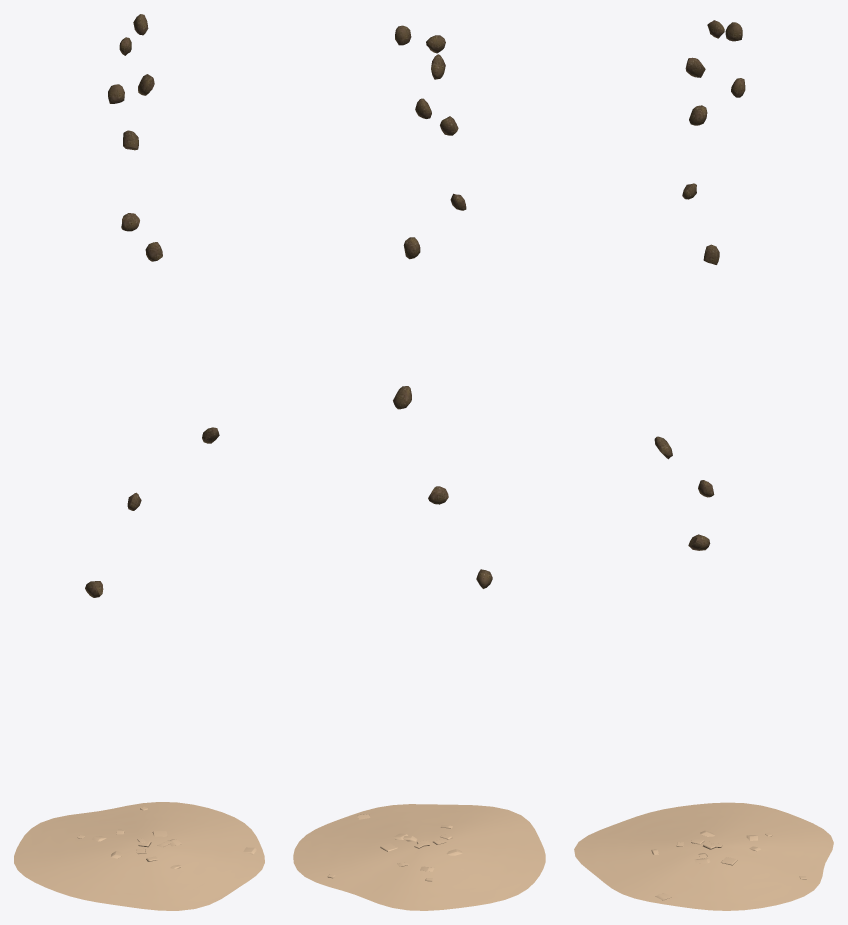
Rendered from TER-SOL-003_anim.glb.
The picture shows the model from 3 angles, left to right: view 1: azimuth 30°, elevation 25°; view 2: azimuth 150°, elevation 25°; view 3: azimuth 270°, elevation 25°; orthographic projection.
Visible parts, largest first — view 1: TER-SOL-003_anim_monte; view 2: TER-SOL-003_anim_monte; view 3: TER-SOL-003_anim_monte.
Part boxes in pixels (box(x1,y1,x2,y2)): TER-SOL-003_anim_monte: box(14, 802, 264, 910); TER-SOL-003_anim_monte: box(293, 804, 545, 910); TER-SOL-003_anim_monte: box(574, 802, 833, 910).
Bounding box in the file's own units: 0.4567 × 1.65 × 0.4625.
Materials: 2 (1 with a texture image).
